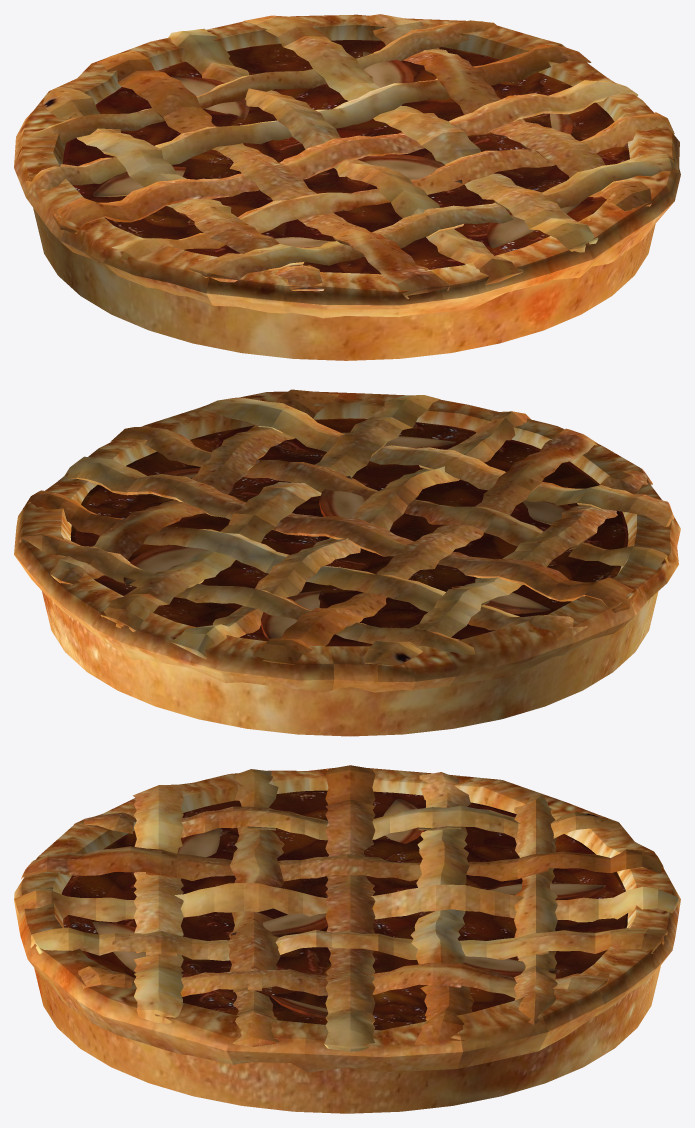
File: Car.glb
3 views of the same model, one above another, from view 1: azimuth 30°, elevation 25°; view 2: azimuth 150°, elevation 25°; view 3: azimuth 270°, elevation 25° (orthographic).
Visible parts, largest first — view 1: polySurface12:PIV; view 2: polySurface12:PIV; view 3: polySurface12:PIV.
Boxes of the visible parts, x1,y1,x2,y2 form: polySurface12:PIV: (14,14,680,360); polySurface12:PIV: (14,389,680,736); polySurface12:PIV: (14,765,680,1113).
Size of the model in its own units: 24.4 by 3.89 by 24.49.
1 material, 1 textured.
